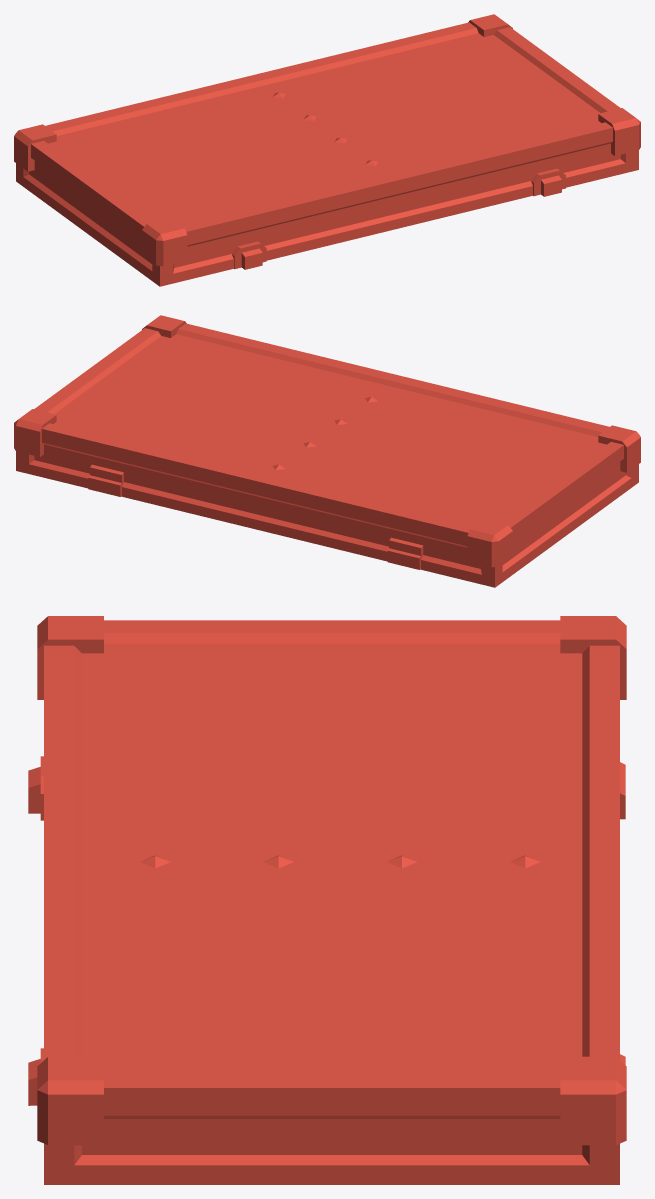
File: SM_Box_Equipment_Padded_Big_Top.fbx
3 renders of one model, top to bottom at view 1: azimuth 30°, elevation 25°; view 2: azimuth 150°, elevation 25°; view 3: azimuth 270°, elevation 25°, orthographic. The views are drawn at different scales.
Visible parts, largest first — view 1: SM_Box_Equipment_Padded_Big_Top; view 2: SM_Box_Equipment_Padded_Big_Top; view 3: SM_Box_Equipment_Padded_Big_Top.
Part boxes in pixels (x1=…): SM_Box_Equipment_Padded_Big_Top: x1=14, y1=14, x2=640, y2=286; SM_Box_Equipment_Padded_Big_Top: x1=14, y1=315, x2=640, y2=587; SM_Box_Equipment_Padded_Big_Top: x1=28, y1=616, x2=626, y2=1184.
Bounding box in the file's own units: 39.49 × 73.89 × 7.49.
